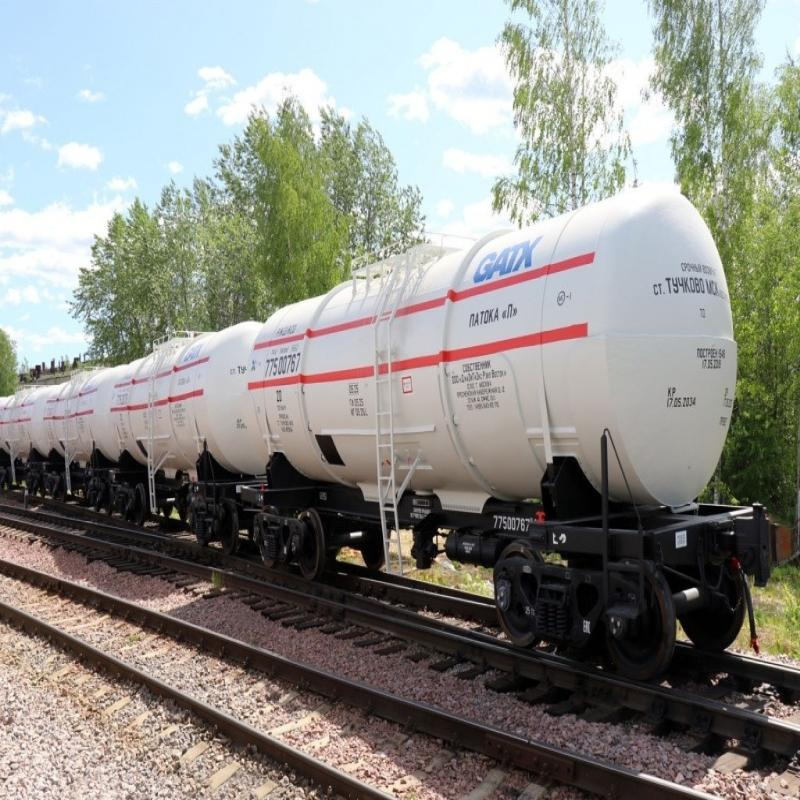train: (248, 167, 769, 647), (105, 315, 272, 565), (18, 365, 110, 518)
